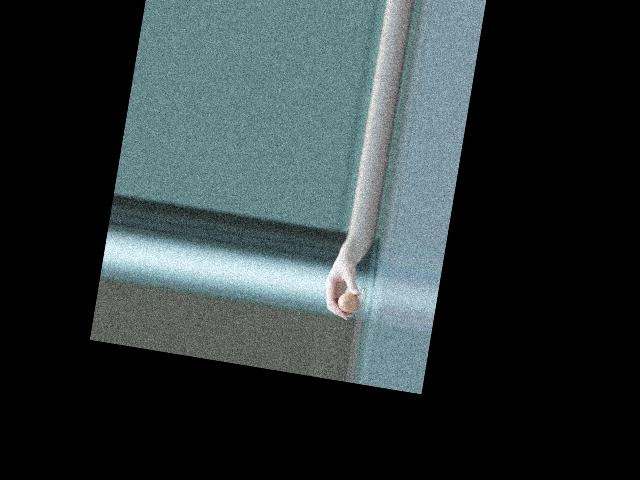egg: (336, 290, 361, 315)
